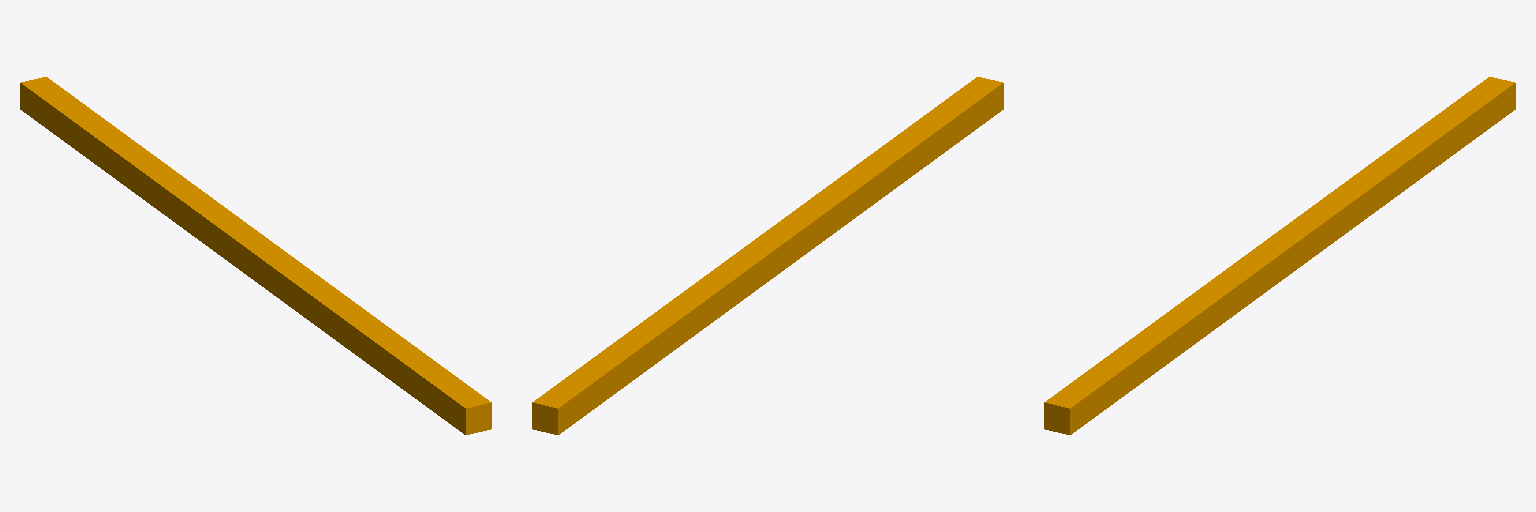
The robot description file, URDF, robot "sphere":
<?xml version="1.0" ?>
<robot name="sphere">
  <link name="sphere">
    <contact>
        <lateral_friction value="1"/>
    </contact>
    <inertial>
      <origin rpy="0 0 0" xyz="0 0 0"/>
       <mass value=".0"/>
       <inertia ixx="0" ixy="0" ixz="0" iyy="0" iyz="0" izz="0"/>
    </inertial>
		<collision>
      <origin rpy="0 0 0" xyz="0.0 0.0 0.0"/>
      <geometry>
        <box size="0.1 1.0 0.1"/>
      </geometry>
    </collision>
		<visual>
      <origin rpy="0 0 0" xyz="0.0 0.0 0.0"/>
      <geometry>
        <box size="0.1 3.0 0.1"/>
      </geometry>
    </visual>
  </link>
</robot>

--- Render facts (derived) ---
The picture shows the robot from 3 angles, left to right: view 1: azimuth 30°, elevation 25°; view 2: azimuth 150°, elevation 25°; view 3: azimuth 330°, elevation 25°; orthographic projection.
Robot: sphere — 1 links, 0 joints (none); root link sphere; default pose: every joint at zero.
Links seen in each view (by area): view 1: sphere; view 2: sphere; view 3: sphere.
Link boxes in pixels (<box>): sphere: <box>20,77,491,434</box>; sphere: <box>532,77,1003,434</box>; sphere: <box>1044,77,1515,434</box>.
Bounding box of the posed robot: 0.1 × 3 × 0.1 m (x, y, z).
Geometry: primitives only (box / cylinder / sphere), no mesh files.